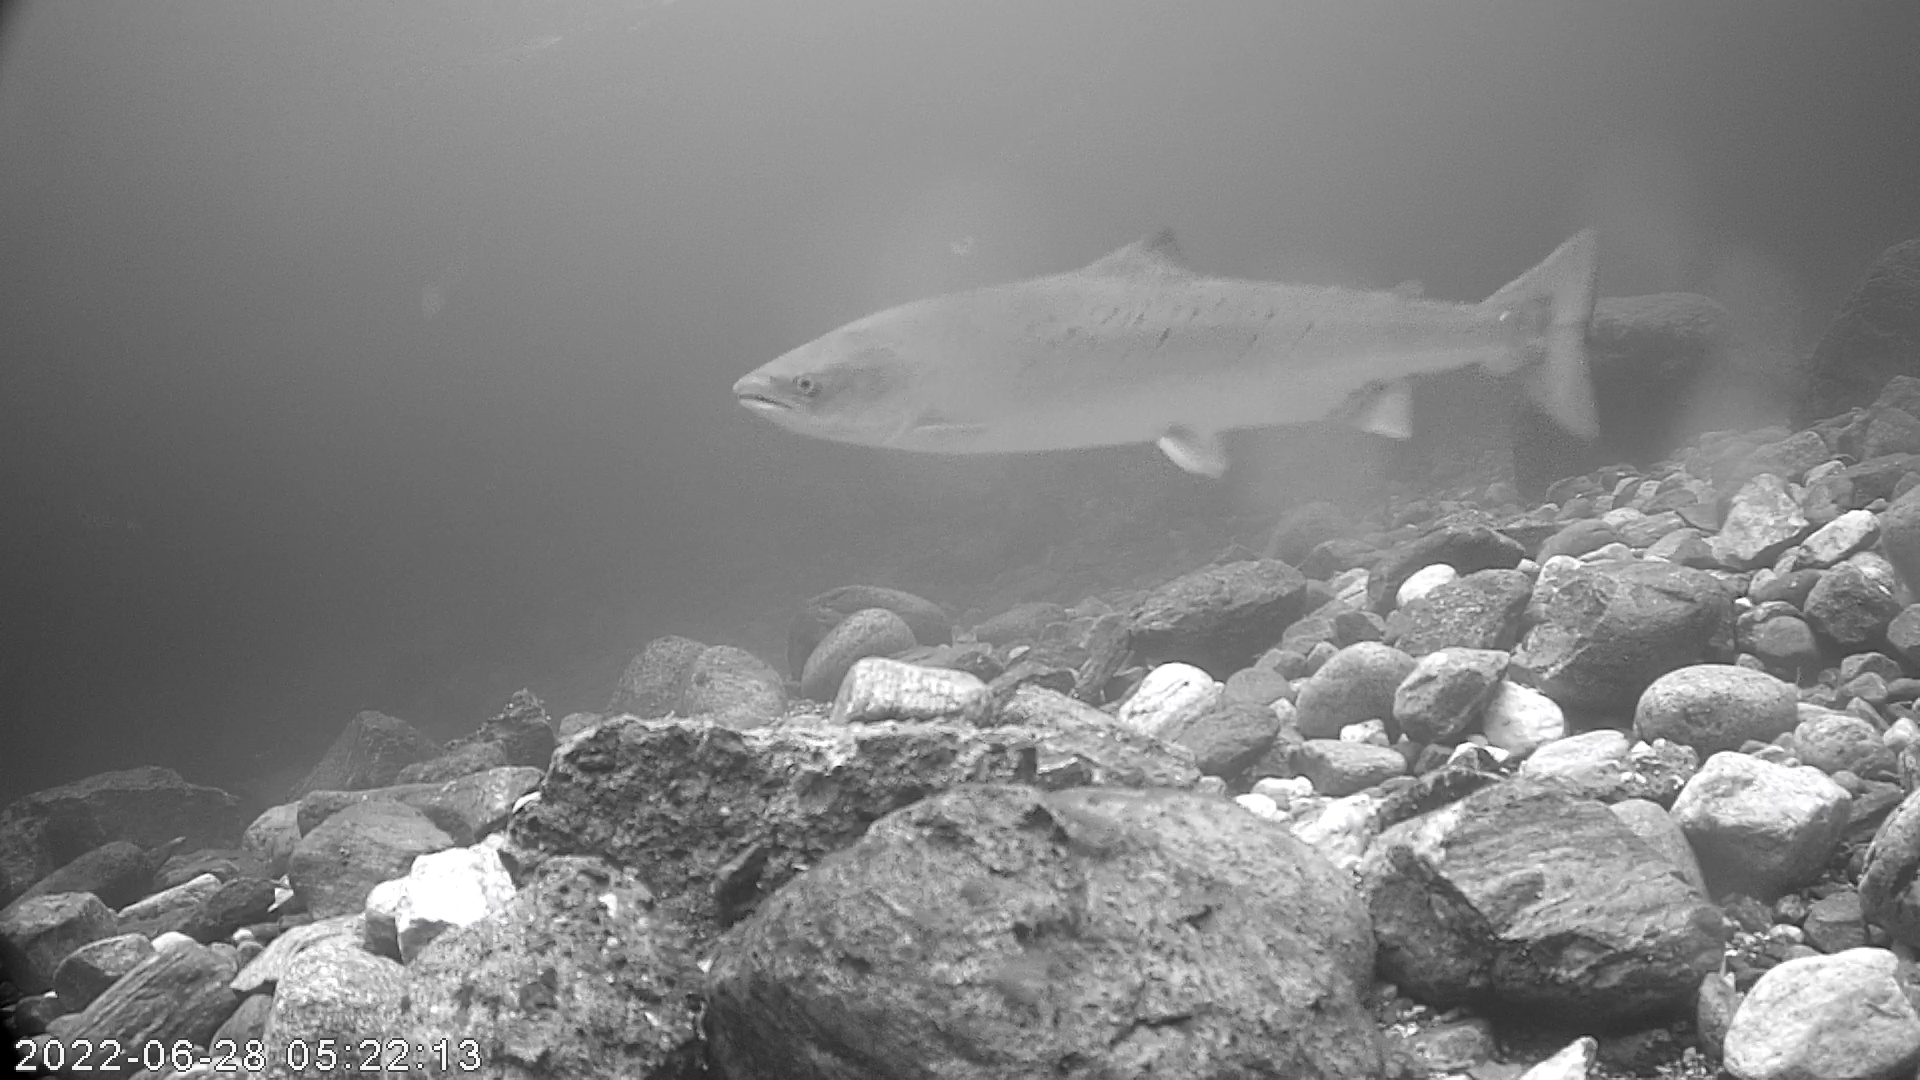salmon: (715, 144, 1633, 533)
